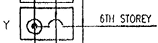Single Phase Tap-Off Unit: (18, 5, 77, 43)
